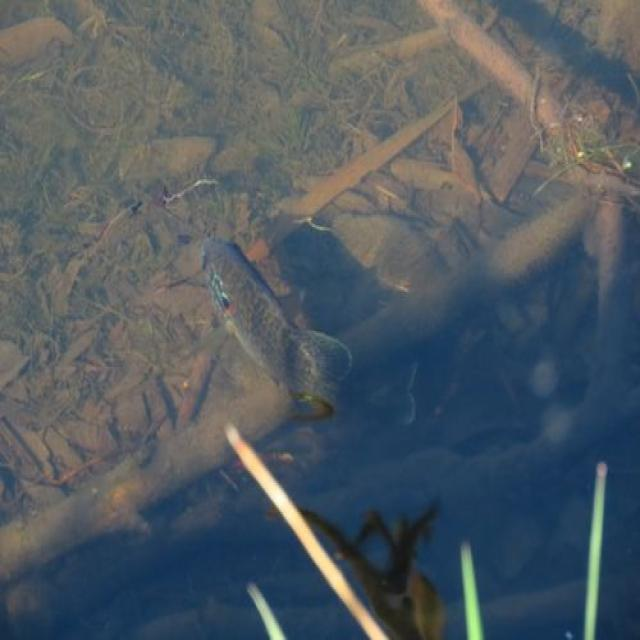Gunes Levregi: (196, 235, 358, 421)
